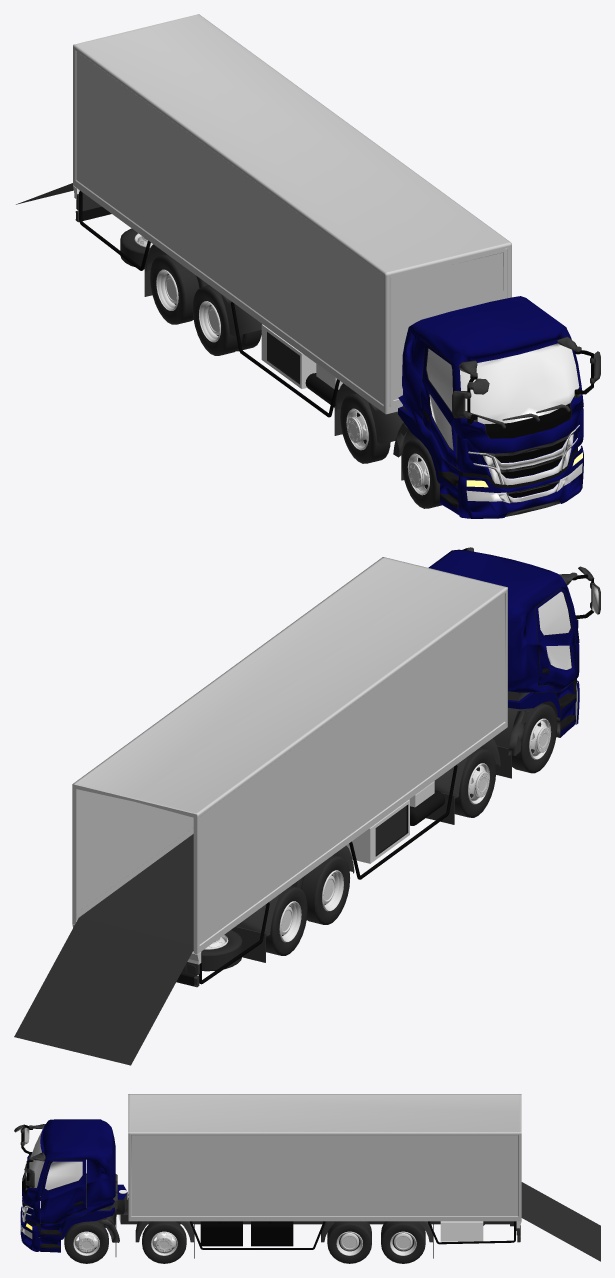
Rendered from truck.fbx.
The picture shows the model from 3 angles, top to bottom: view 1: azimuth 30°, elevation 25°; view 2: azimuth 150°, elevation 25°; view 3: azimuth 270°, elevation 25°; orthographic projection. The views are drawn at different scales.
Parts seen in each view (by area): view 1: Object_21; view 2: Object_21; view 3: Object_21.
Part boxes in pixels (box(x1,y1,x2,y2)): Object_21: box(16, 14, 600, 518); Object_21: box(14, 547, 600, 1065); Object_21: box(14, 1094, 600, 1263).
Bounding box in the file's own units: 199 × 260 × 1052.
